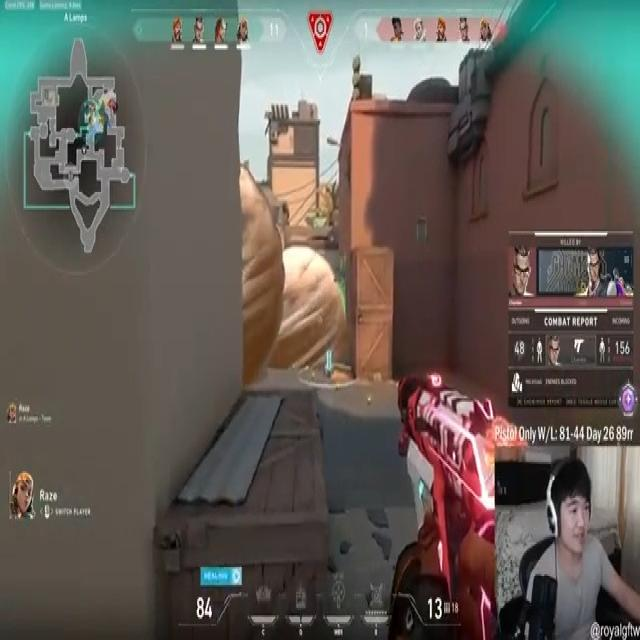smoke: (238, 160, 284, 392), (271, 241, 348, 374)
spike-planted: (321, 345, 336, 383)
